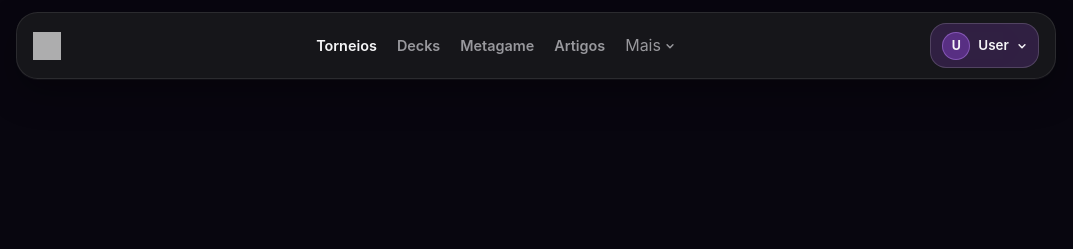
Test case: Navbar — dropdown do usuário › não exibe Dashboard para usuário comum
Click the button with aria-label "Abrir menu do usuário". click: (985,46)
box: [930,23,1039,68]
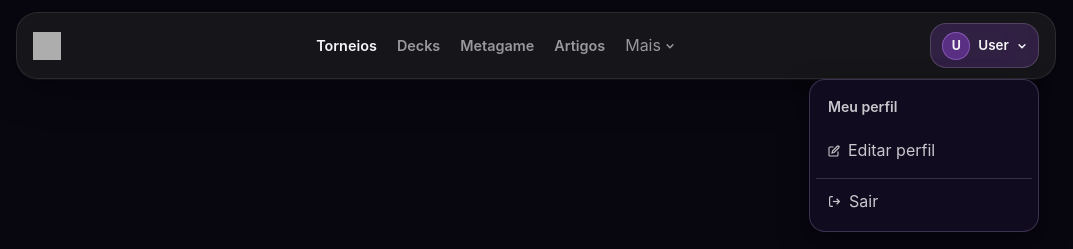
Expected: the menu item "Sair" is shown, [816,178,1032,225]
